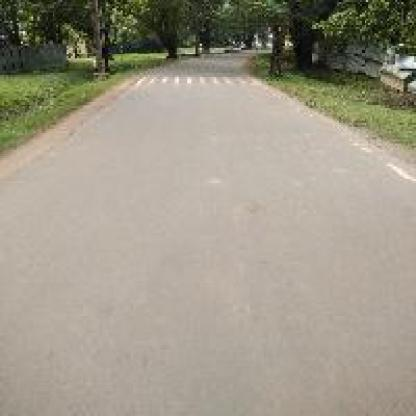Speed Bump: (131, 71, 268, 87)
